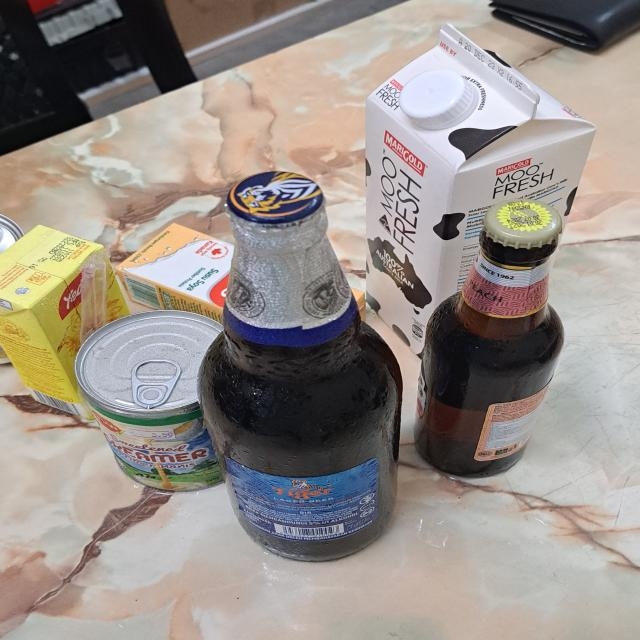can: (78, 310, 228, 492)
drink carton: (366, 24, 598, 357), (0, 224, 132, 415), (117, 220, 227, 314)
glass bottle: (200, 172, 404, 563), (420, 204, 566, 479)
plastic bottle cap: (399, 68, 481, 132)
pop tab: (132, 359, 180, 410)
